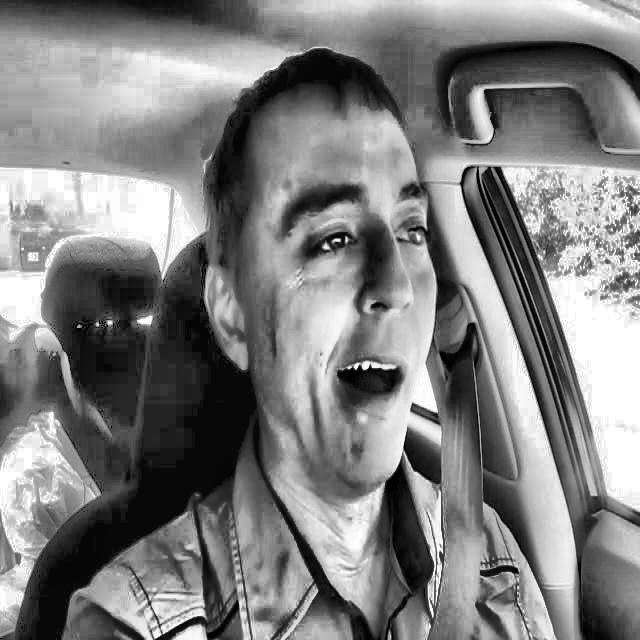open_eyes: (290, 214, 370, 275), (382, 207, 443, 263)
open_mouth: (313, 337, 428, 426)
